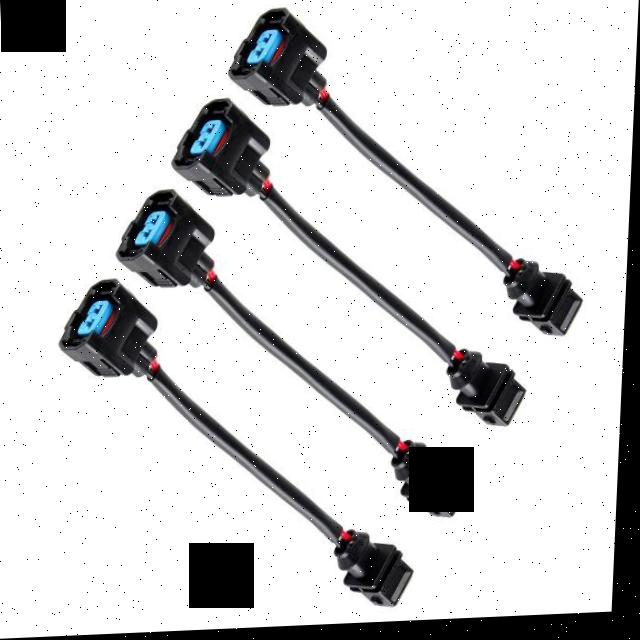cable: (138, 352, 352, 555), (305, 86, 517, 284), (197, 270, 407, 464), (251, 180, 463, 372)
connector: (221, 1, 349, 129), (165, 91, 292, 217), (111, 182, 238, 308), (55, 272, 182, 398), (436, 345, 537, 437), (325, 525, 425, 617), (382, 436, 481, 527), (493, 256, 592, 347), (455, 355, 537, 437)
